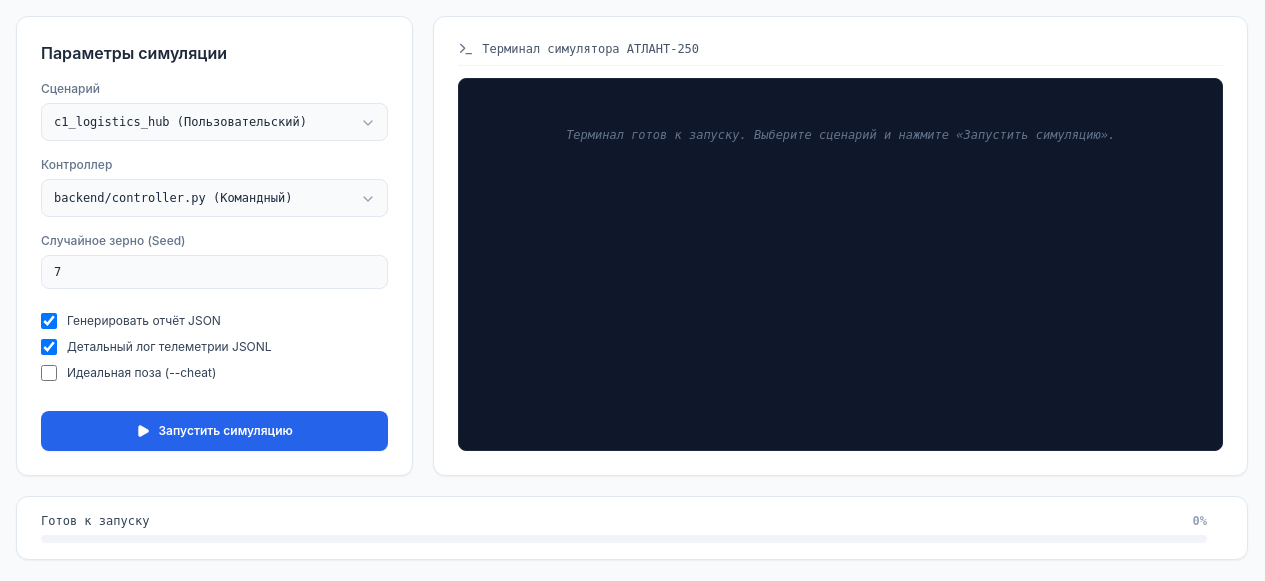
Scenario: Global Scenario Synchronization › RunnerPage uploaded scenario synchronization › clears uploaded scenario stub after simulation finishes successfully (exitCode === 0)
This screenshot has width=1265, height=581.
Step 1. Click the button "Запустить симуляцию" → [215, 431], box [41,411,388,451]
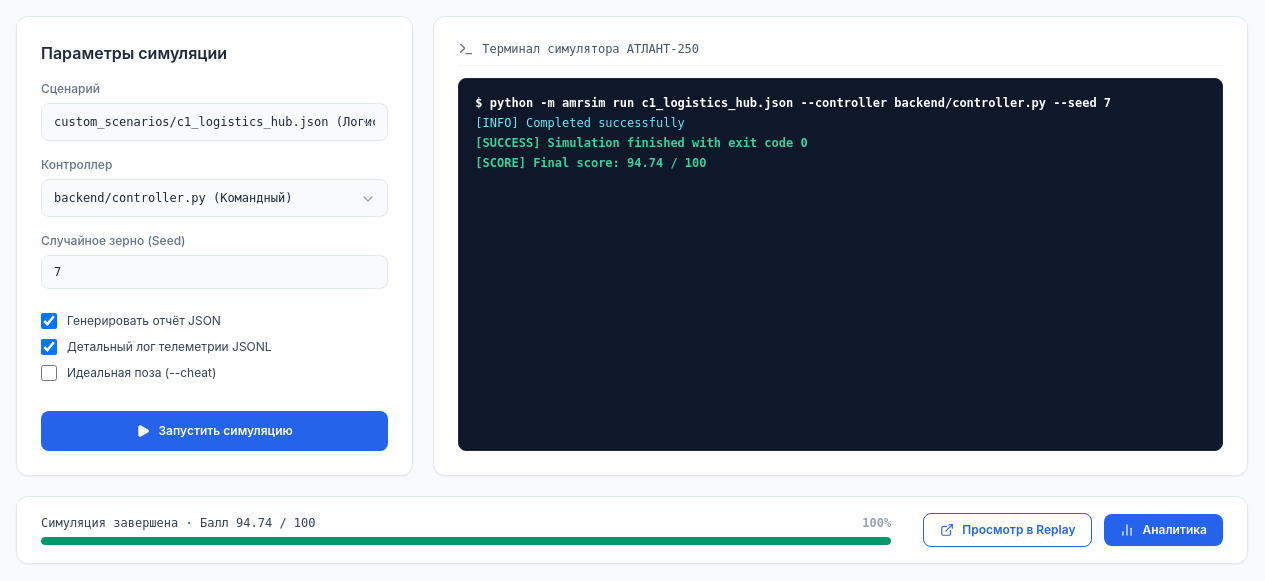
Check: the text "[SUCCESS] Simulation finished with exit code 0" is shown, box [475,136,808,150]
